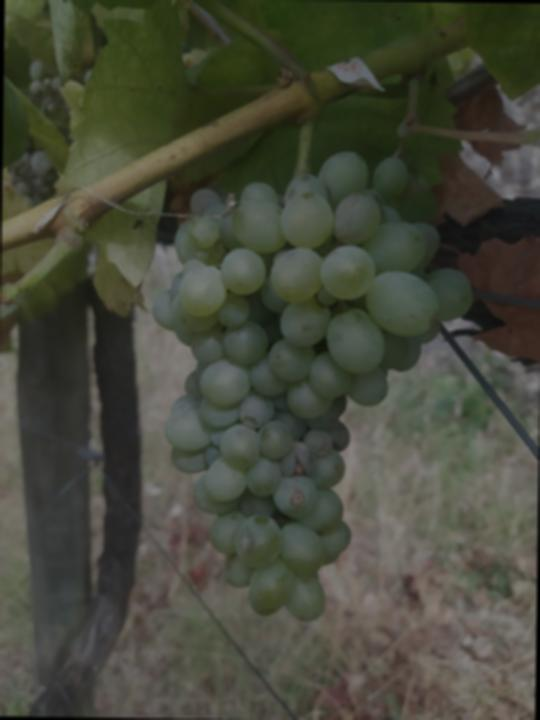grape: (142, 141, 478, 628)
